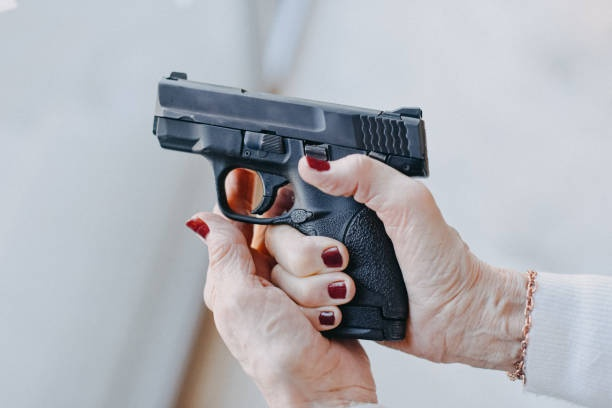gun: (151, 70, 431, 343)
